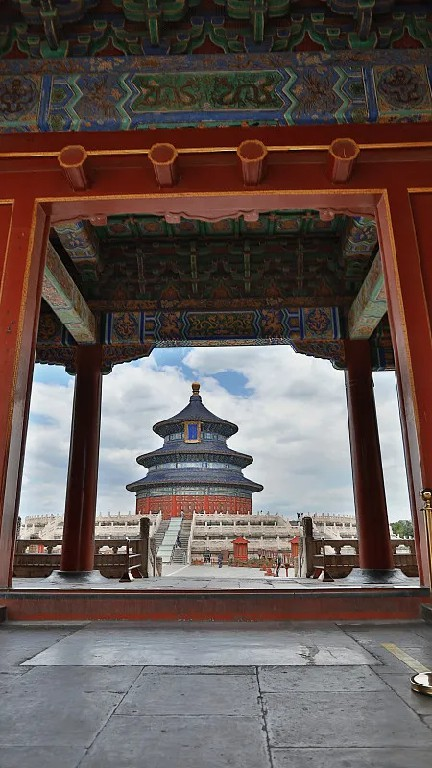Heaven: (124, 382, 266, 518)
